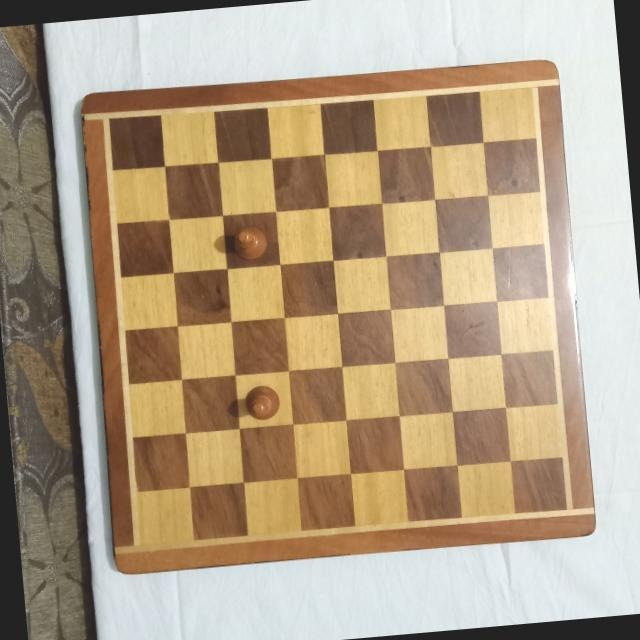white-pawn: (240, 384, 283, 424), (229, 224, 271, 263)
